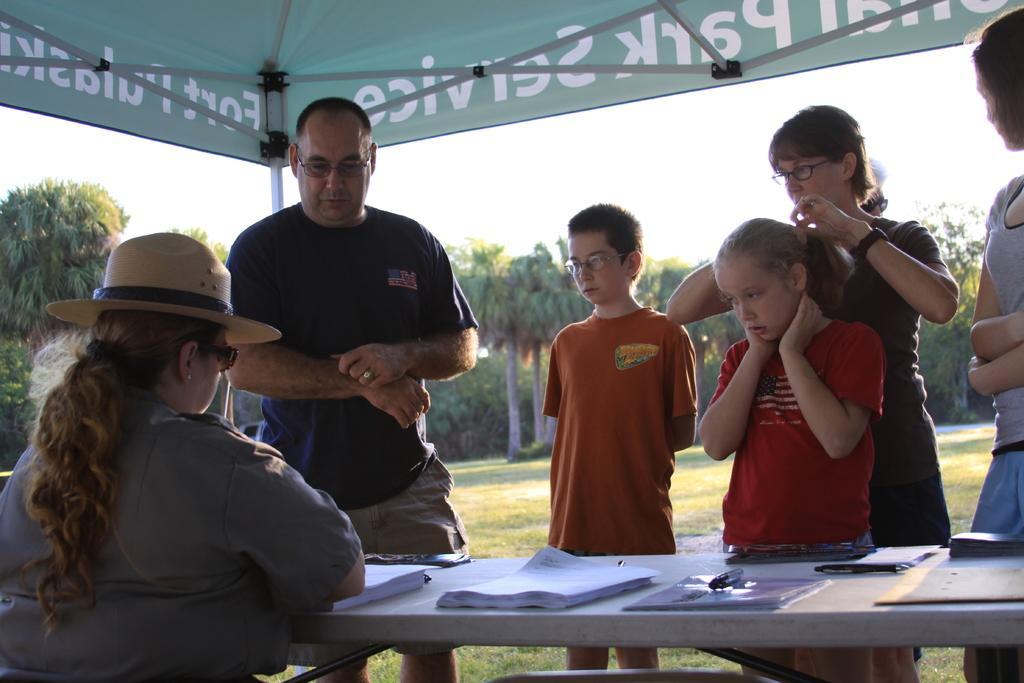Hat: (46, 228, 285, 346)
